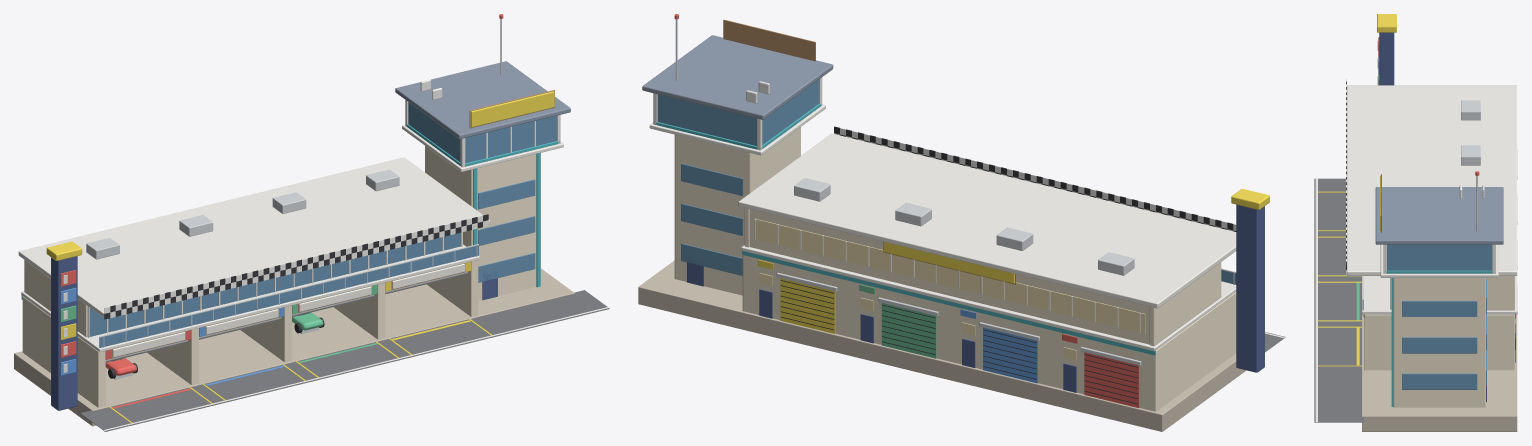
Rendered from pit_garages.fbx.
3 renders of one model, left to right at view 1: azimuth 30°, elevation 25°; view 2: azimuth 150°, elevation 25°; view 3: azimuth 270°, elevation 25°, orthographic. The views are drawn at different scales.
Parts seen in each view (by area): view 1: Visual; view 2: Visual; view 3: Visual.
Part boxes in pixels (x1,y1,x2,y2): Visual: (14, 14, 609, 431); Visual: (638, 14, 1285, 431); Visual: (1314, 14, 1517, 431).
Size of what is drawn, in the model's own units: 4760 by 2225 by 1623.
